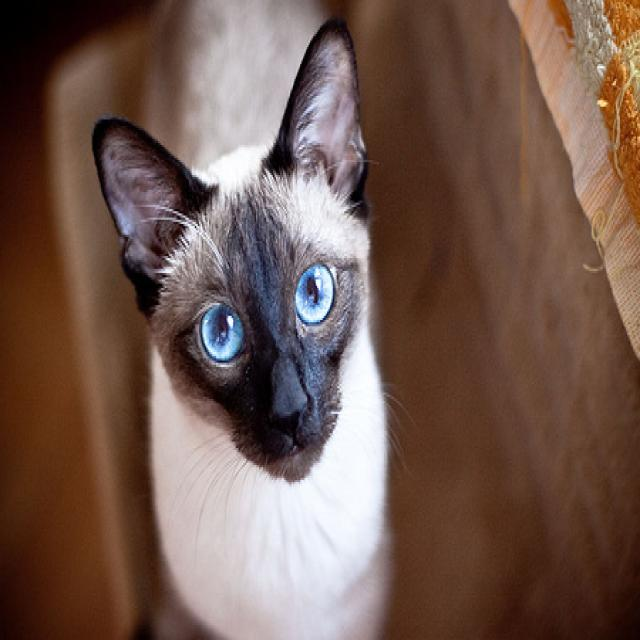Siamese: (90, 0, 398, 640)
